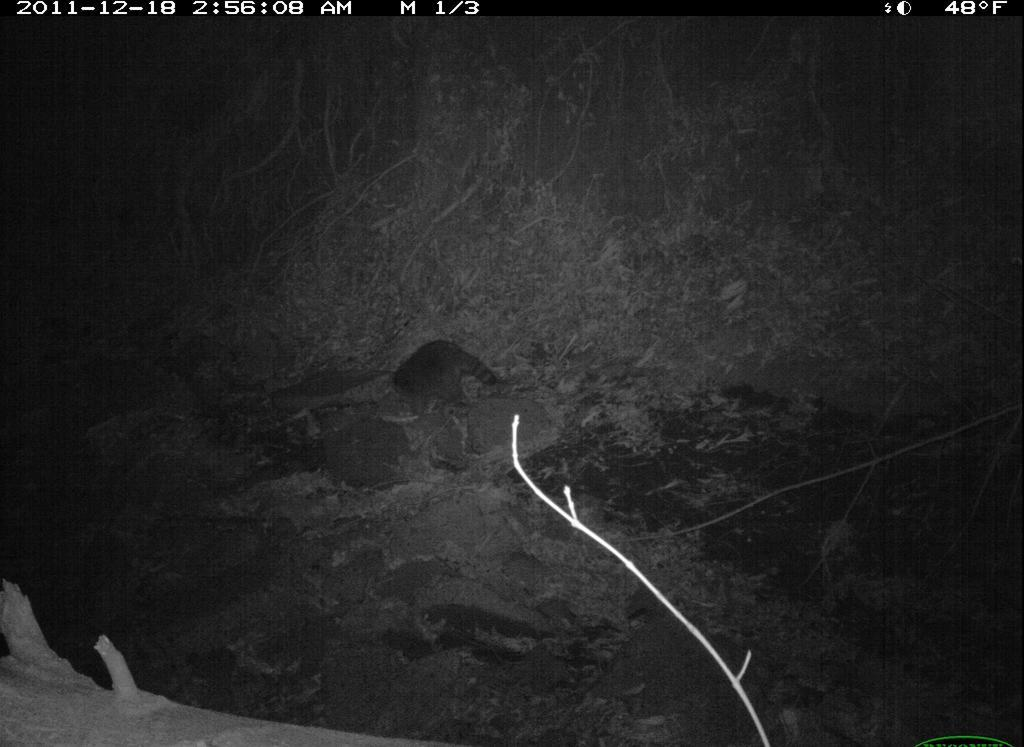raccoon: (373, 326, 515, 428)
